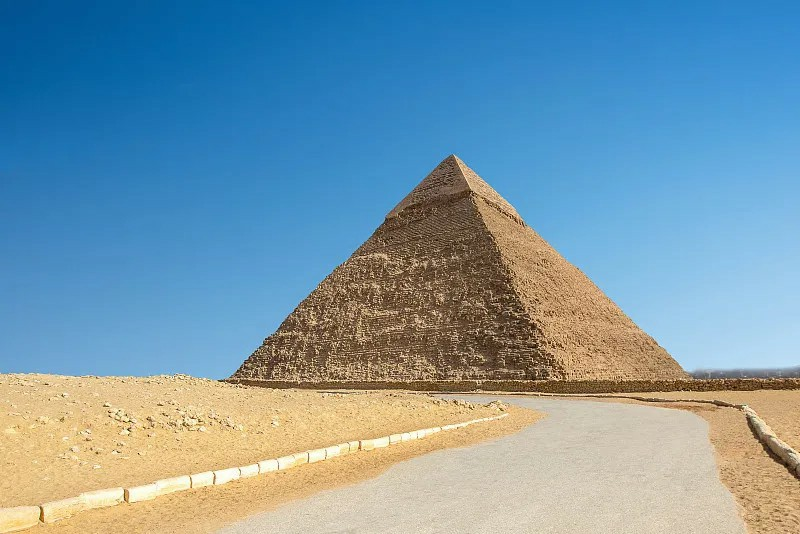Pyramid: (227, 156, 695, 380)
